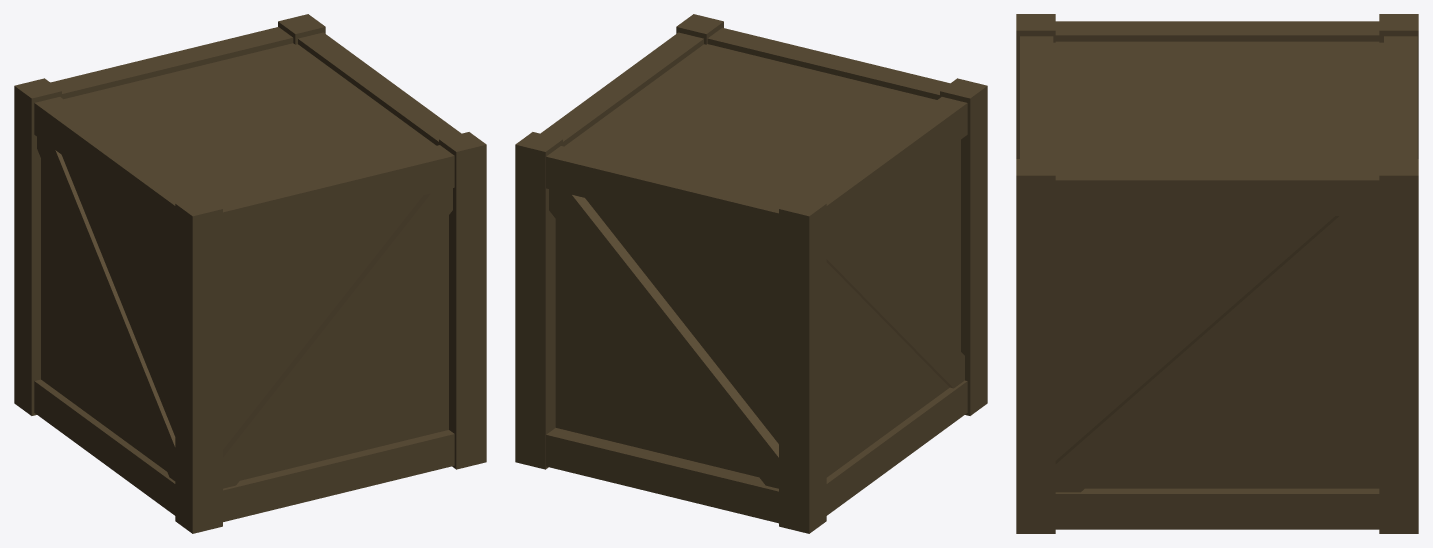
Rendered from crate2.fbx.
3 views of the same model, side by side, from view 1: azimuth 30°, elevation 25°; view 2: azimuth 150°, elevation 25°; view 3: azimuth 270°, elevation 25° (orthographic). The views are drawn at different scales.
Visible parts, largest first — view 1: Crate2; view 2: Crate2; view 3: Crate2.
Boxes of the visible parts, x1,y1,x2,y2 form: Crate2: (14,14,486,533); Crate2: (515,14,987,533); Crate2: (1016,14,1418,533).
Size of the model in its own units: 9.69 by 10 by 10.18.
